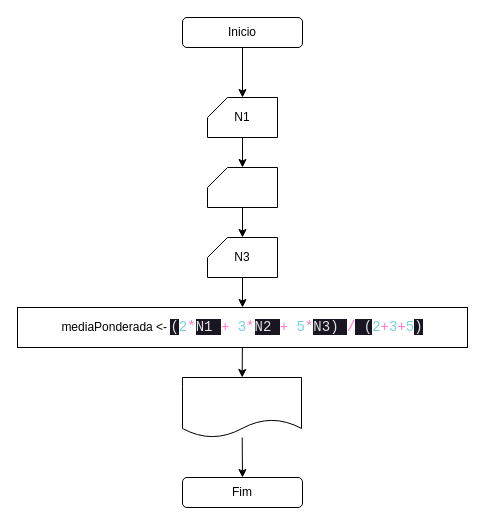
Image size: 485x525. Some labels were removed from this diagram. Each missing label, with the box of its shape:
mediaPonderada: (182, 376, 302, 438)
N2: (206, 166, 278, 208)
